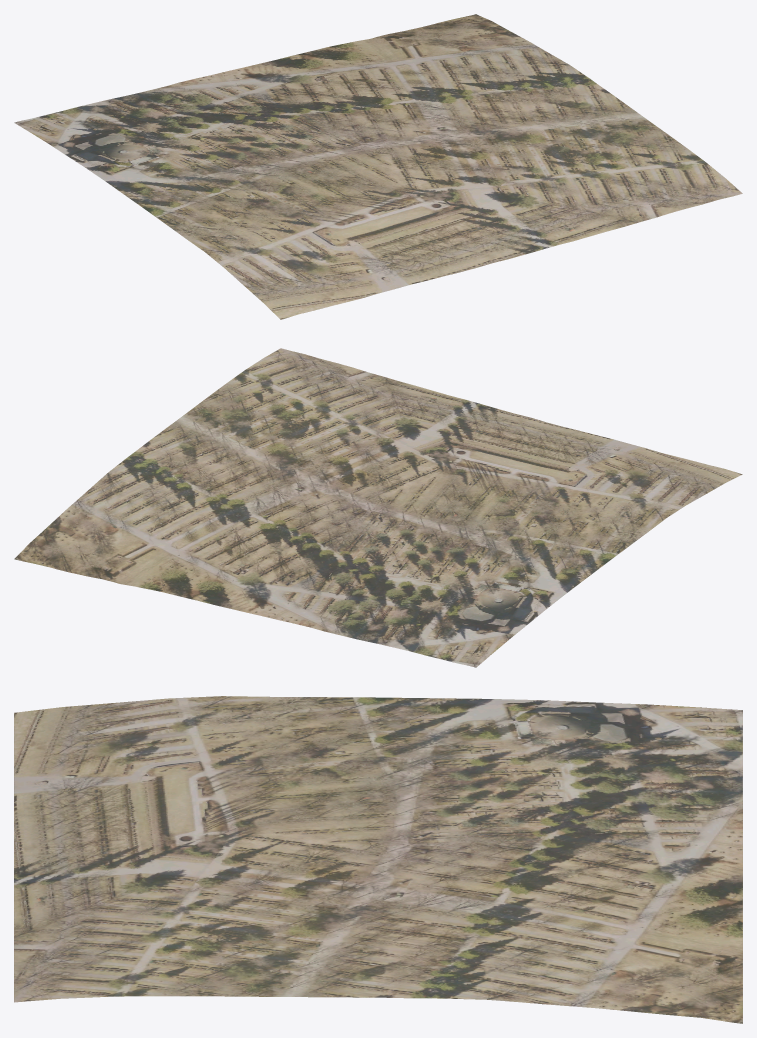
Rendered from CM_Terrain_24489025_6820408.fbx.
The picture shows the model from 3 angles, top to bottom: view 1: azimuth 30°, elevation 25°; view 2: azimuth 150°, elevation 25°; view 3: azimuth 270°, elevation 25°; orthographic projection. The views are drawn at different scales.
Visible parts, largest first — view 1: CM_Terrain_24489025_6820408_LOD0; view 2: CM_Terrain_24489025_6820408_LOD0; view 3: CM_Terrain_24489025_6820408_LOD0.
Boxes of the visible parts, box(x1,y1,x2,y2) form: CM_Terrain_24489025_6820408_LOD0: box(14, 14, 742, 319); CM_Terrain_24489025_6820408_LOD0: box(14, 348, 742, 667); CM_Terrain_24489025_6820408_LOD0: box(14, 696, 742, 1023).
Size of what is drawn, in the model's own units: 205 by 8.64 by 205.
